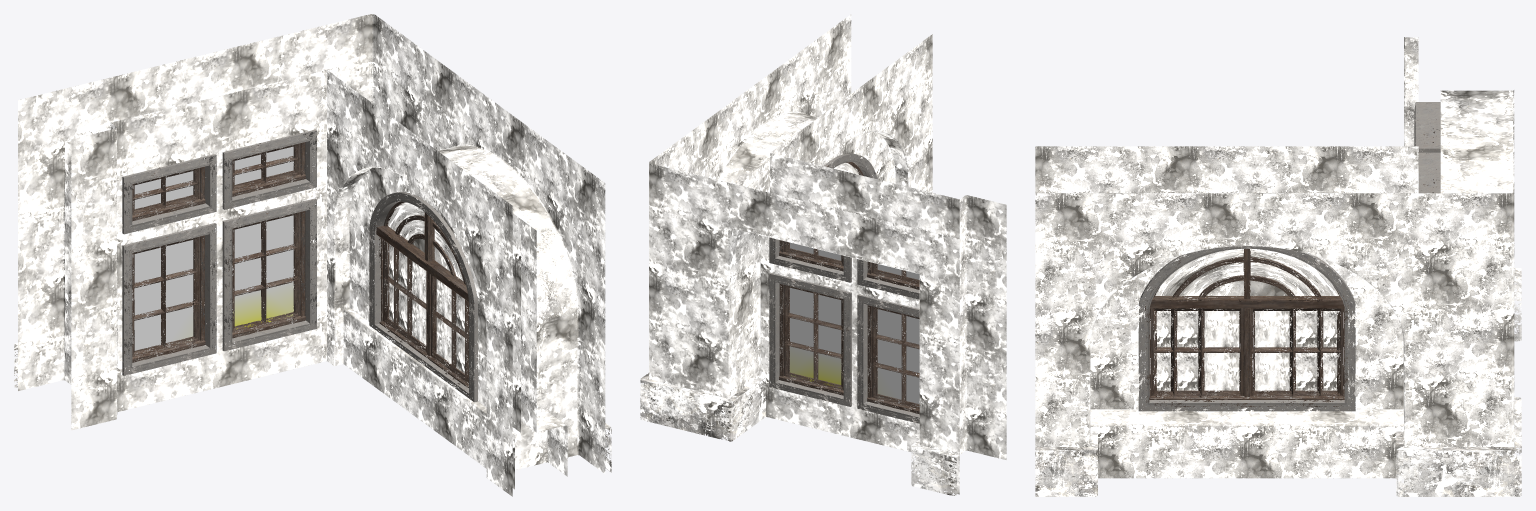
3 renders of one model, left to right at view 1: azimuth 30°, elevation 25°; view 2: azimuth 150°, elevation 25°; view 3: azimuth 270°, elevation 25°, orthographic. The views are drawn at different scales.
Visible parts, largest first — view 1: SM_wall_B_corner_03_01_LOD0; view 2: SM_wall_B_corner_03_01_LOD0; view 3: SM_wall_B_corner_03_01_LOD0.
Part boxes in pixels (x1,y1,x2,y2): SM_wall_B_corner_03_01_LOD0: (14, 14, 611, 496); SM_wall_B_corner_03_01_LOD0: (640, 14, 1006, 495); SM_wall_B_corner_03_01_LOD0: (1035, 37, 1521, 496).
Size of the model in its own units: 585 by 660 by 450.
Materials: 5 (4 with a texture image).
